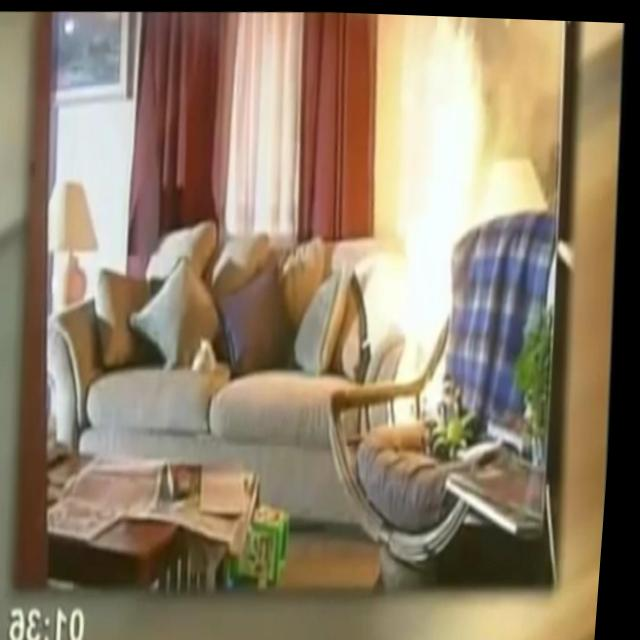fire: (367, 11, 512, 429)
